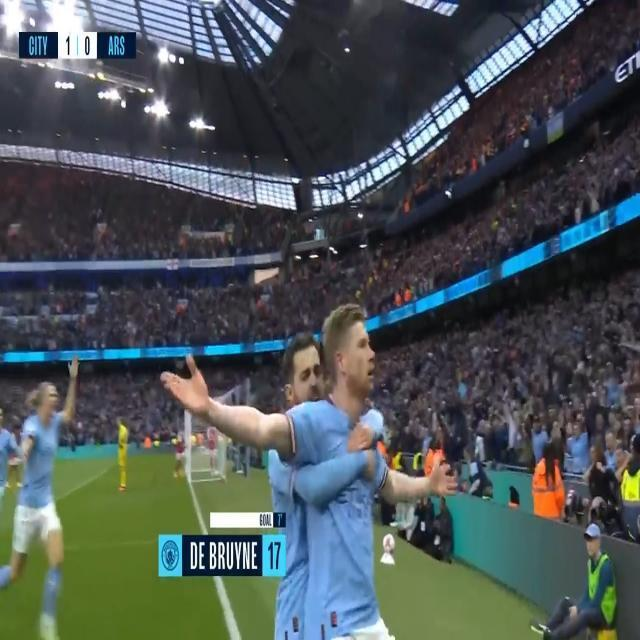player: (134, 247, 465, 640), (2, 303, 98, 639)
